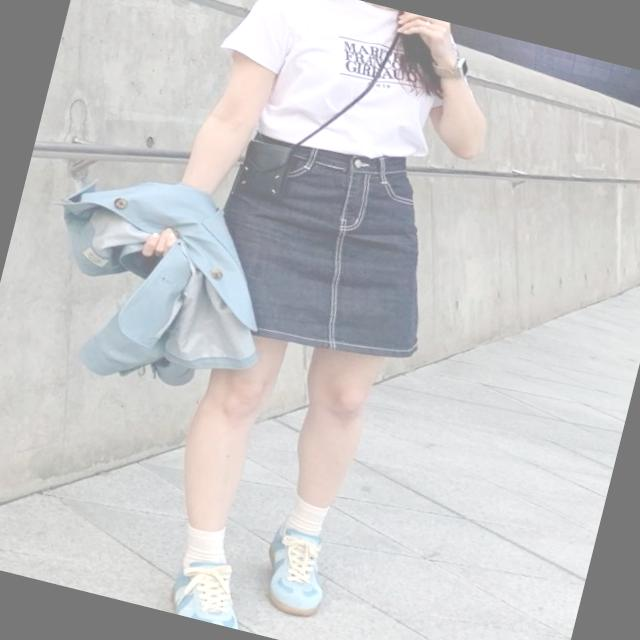shortsleeve: (207, 0, 483, 176)
skirt: (202, 121, 466, 377)
